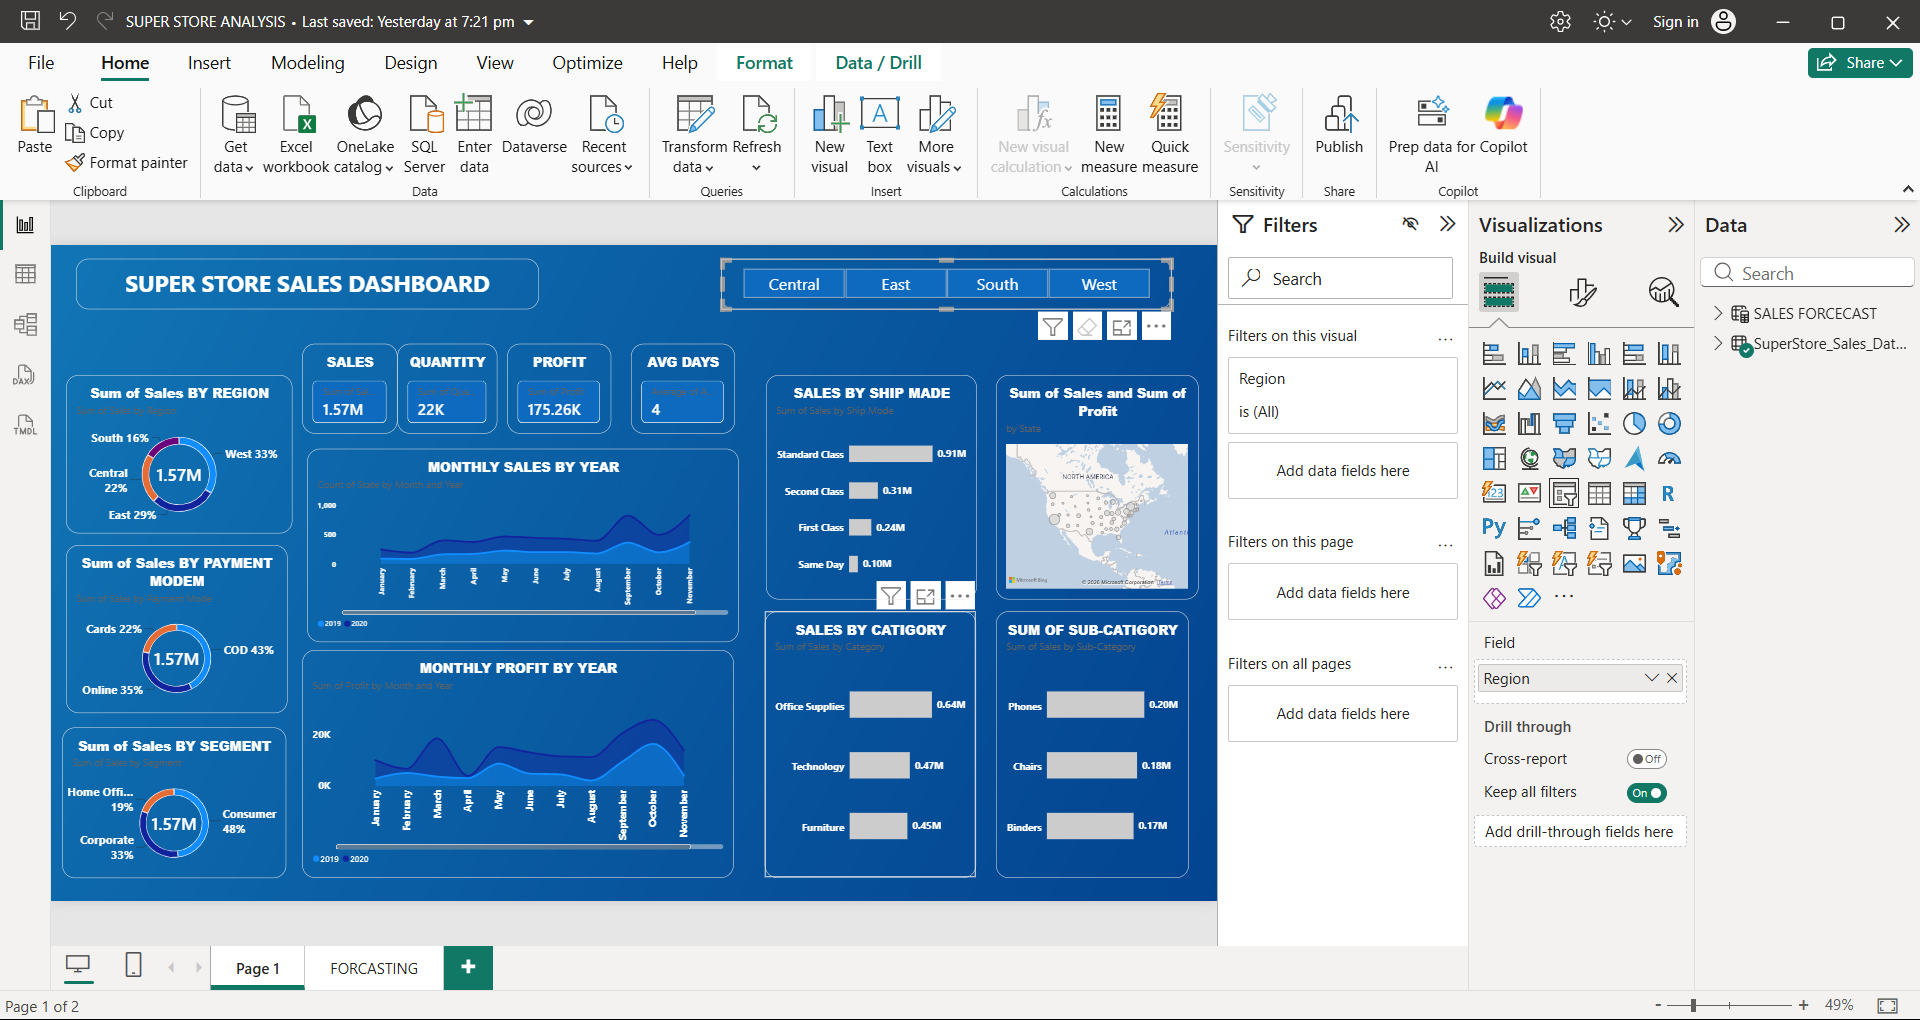

The page's visual inventory and layout, read from the dashboard file:
{"tool":"powerbi","page":{"name":"Page 1","canvas":[1920,1080],"ordinal":0},"visuals":[{"type":"clusteredBarChart","title":"SALES BY CATIGORY","fields":{"Category":["SuperStore_Sales_Dataset.Category"],"Y":["Sum(SuperStore_Sales_Dataset.Sales)"]},"box":[1175,602.8,347.8,439.1],"z":0},{"type":"clusteredBarChart","title":"SUM OF SUB-CATIGORY","fields":{"Category":["SuperStore_Sales_Dataset.Sub-Category"],"Y":["Sum(SuperStore_Sales_Dataset.Sales)"]},"box":[1555.6,602.8,317.4,439.1],"z":1000},{"type":"clusteredBarChart","title":"SALES BY SHIP MADE","fields":{"Category":["SuperStore_Sales_Dataset.Ship Mode"],"Y":["Sum(SuperStore_Sales_Dataset.Sales)"]},"box":[1177.8,213.9,347.2,369.4],"z":2000},{"type":"stackedAreaChart","title":"MONTHLY PROFIT BY YEAR","fields":{"Category":["SuperStore_Sales_Dataset.Order Date.Variation.Date Hierarchy.Month","SuperStore_Sales_Dataset.Order Date.Variation.Date Hierarchy.Day"],"Series":["SuperStore_Sales_Dataset.Order Date.Variation.Date Hierarchy.Year"],"Y":["Sum(SuperStore_Sales_Dataset.Profit)"]},"box":[414.6,666.7,710.4,375],"z":3000},{"type":"map","fields":{"Category":["SuperStore_Sales_Dataset.State"],"Size":["Sum(SuperStore_Sales_Dataset.Sales)"]},"box":[1555.6,213.9,333.3,369.4],"z":4000},{"type":"donutChart","title":"Sum of Sales BY REGION","fields":{"Category":["SuperStore_Sales_Dataset.Region"],"Y":["Sum(SuperStore_Sales_Dataset.Sales)"]},"box":[25,214.6,372.9,260.4],"z":5000},{"type":"stackedAreaChart","title":"MONTHLY SALES BY YEAR","fields":{"Category":["SuperStore_Sales_Dataset.Order Date.Variation.Date Hierarchy.Month","SuperStore_Sales_Dataset.Order Date.Variation.Date Hierarchy.Day"],"Series":["SuperStore_Sales_Dataset.Order Date.Variation.Date Hierarchy.Year"],"Y":["CountNonNull(SuperStore_Sales_Dataset.State)"]},"box":[422.9,335.4,710.4,318.8],"z":6000},{"type":"donutChart","title":"Sum of Sales BY SEGMENT","fields":{"Category":["SuperStore_Sales_Dataset.Segment"],"Y":["Sum(SuperStore_Sales_Dataset.Sales)"]},"box":[18.8,793.8,368.8,247.9],"z":7000},{"type":"donutChart","title":"Sum of Sales BY PAYMENT MODEM","fields":{"Category":["SuperStore_Sales_Dataset.Payment Mode"],"Y":["Sum(SuperStore_Sales_Dataset.Sales)"]},"box":[25,493.8,364.6,277.1],"z":8000},{"type":"slicer","fields":{"Values":["SuperStore_Sales_Dataset.Region"]},"box":[1104.2,22.9,741.7,83.3],"z":9000},{"type":"textbox","box":[41.7,22.9,762.5,83.3],"z":10000},{"type":"cardVisual","title":"SALES","fields":{"Data":["Sum(SuperStore_Sales_Dataset.Sales)"]},"box":[413.7,162.6,156.4,148.2],"z":11000},{"type":"cardVisual","title":"QUANTITY","fields":{"Data":["Sum(SuperStore_Sales_Dataset.Quantity)"]},"box":[570.8,162.5,164.6,147.9],"z":12000},{"type":"cardVisual","title":"PROFIT","fields":{"Data":["Sum(SuperStore_Sales_Dataset.Profit)"]},"box":[752.1,162.5,170.8,147.9],"z":13000},{"type":"cardVisual","title":"AVG DAYS","fields":{"Data":["Avg(SuperStore_Sales_Dataset.AVGDELHIVERY)"]},"box":[954.2,162.5,170.8,147.9],"z":14000}]}

Visuals, with their boxes on the page's 1920x1080 design canvas (x1, y1, x2, y2). These are canvas units, not pixel positions in the 1920x1020 screenshot, which may show the page scaled, cropped or inside an application window:
"SALES BY CATIGORY" clusteredBarChart: region(1175, 603, 1523, 1042)
"SUM OF SUB-CATIGORY" clusteredBarChart: region(1556, 603, 1873, 1042)
"SALES BY SHIP MADE" clusteredBarChart: region(1178, 214, 1525, 583)
"MONTHLY PROFIT BY YEAR" stackedAreaChart: region(415, 667, 1125, 1042)
map - SuperStore_Sales_Dataset.State x Sum(SuperStore_Sales_Dataset.Sales): region(1556, 214, 1889, 583)
"Sum of Sales BY REGION" donutChart: region(25, 215, 398, 475)
"MONTHLY SALES BY YEAR" stackedAreaChart: region(423, 335, 1133, 654)
"Sum of Sales BY SEGMENT" donutChart: region(19, 794, 388, 1042)
"Sum of Sales BY PAYMENT MODEM" donutChart: region(25, 494, 390, 771)
slicer - SuperStore_Sales_Dataset.Region: region(1104, 23, 1846, 106)
textbox: region(42, 23, 804, 106)
"SALES" cardVisual: region(414, 163, 570, 311)
"QUANTITY" cardVisual: region(571, 162, 735, 310)
"PROFIT" cardVisual: region(752, 162, 923, 310)
"AVG DAYS" cardVisual: region(954, 162, 1125, 310)
